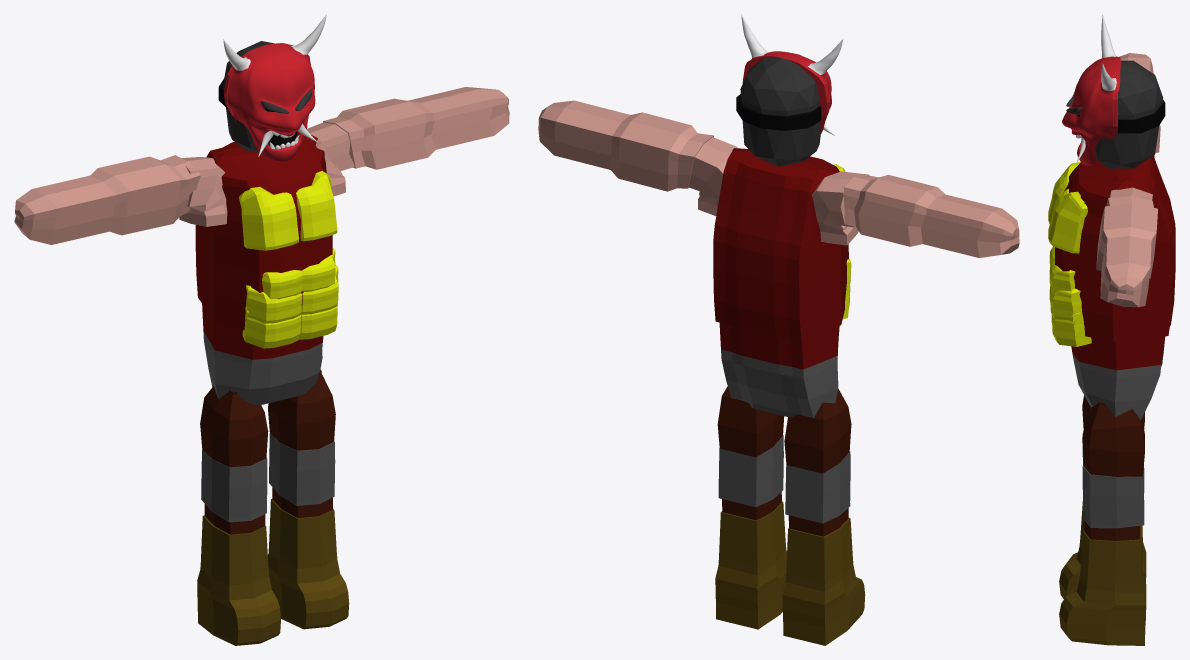
File: BlindGuard4.fbx
3 renders of one model, left to right at view 1: azimuth 30°, elevation 25°; view 2: azimuth 150°, elevation 25°; view 3: azimuth 270°, elevation 25°, orthographic. The views are drawn at different scales.
Parts seen in each view (by area): view 1: MiddleSpine, rigjtarm, Head, leftarm.001, RightFoot, LeftFoot, RightKnee, LeftKnee, Pelvis, RightPelvis, rightelbow, LeftPelvis (+1 smaller); view 2: MiddleSpine, leftarm.001, rigjtarm, Head, RightFoot, LeftFoot, RightKnee, LeftKnee, Pelvis, RightPelvis, rightelbow, leftelbow (+1 smaller); view 3: MiddleSpine, Head, LeftFoot, leftarm.001, LeftKnee, Pelvis, LeftPelvis, RightFoot, rigjtarm, leftelbow.
Part boxes in pixels (box(x1,y1,x2,y2)): MiddleSpine: box(195, 135, 338, 359); rigjtarm: box(14, 155, 200, 244); Head: box(218, 14, 326, 162); leftarm.001: box(323, 87, 509, 169); RightFoot: box(197, 515, 280, 645); LeftFoot: box(268, 499, 349, 629); RightKnee: box(200, 425, 268, 534); LeftKnee: box(268, 408, 335, 517); Pelvis: box(203, 331, 322, 404); RightPelvis: box(200, 386, 267, 440); rightelbow: box(179, 157, 227, 226); LeftPelvis: box(268, 369, 335, 423); MiddleSpine: box(713, 148, 851, 369); leftarm.001: box(538, 100, 713, 191); rigjtarm: box(840, 175, 1019, 257); Head: box(736, 14, 843, 166); RightFoot: box(782, 518, 865, 645); LeftFoot: box(715, 501, 786, 629); RightKnee: box(784, 425, 851, 536); LeftKnee: box(717, 415, 784, 520); Pelvis: box(721, 347, 838, 417); RightPelvis: box(784, 389, 851, 449); rightelbow: box(812, 171, 869, 245); leftelbow: box(688, 137, 737, 215); MiddleSpine: box(1048, 155, 1175, 370); Head: box(1062, 15, 1165, 168); LeftFoot: box(1059, 525, 1146, 645); leftarm.001: box(1096, 196, 1157, 307); LeftKnee: box(1082, 439, 1144, 540); Pelvis: box(1072, 354, 1163, 419); LeftPelvis: box(1082, 401, 1144, 452); RightFoot: box(1059, 499, 1146, 598); rigjtarm: box(1120, 53, 1160, 157); leftelbow: box(1109, 187, 1152, 200).
Bounding box in the file's own units: 1433 × 1693 × 336.
